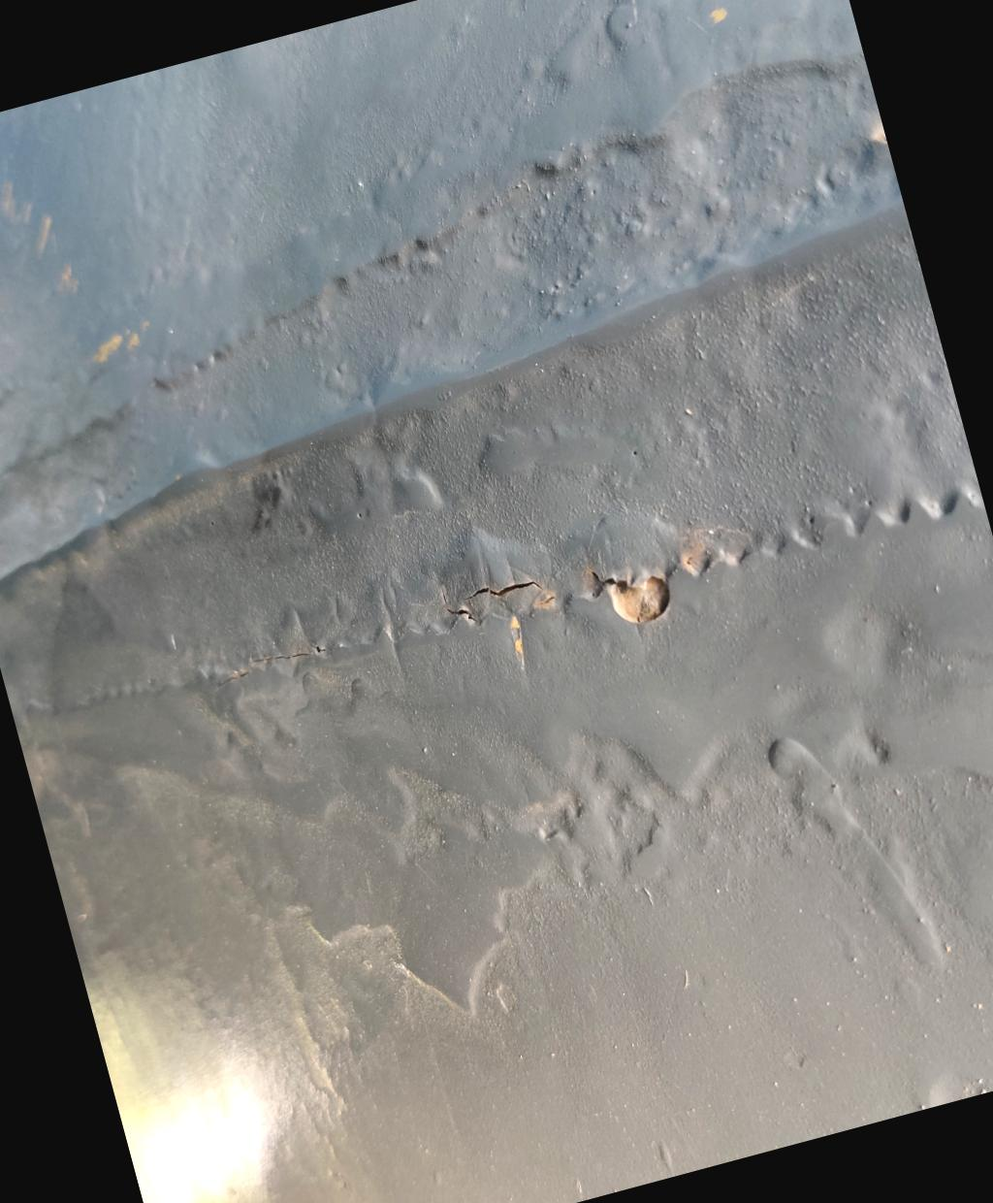crack: (399, 510, 716, 695)
